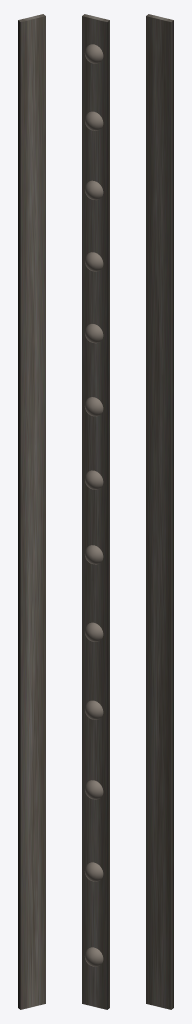
Rendered from Wall_Panel_Piece.fbx.
The picture shows the model from 3 angles, left to right: view 1: azimuth 30°, elevation 25°; view 2: azimuth 150°, elevation 25°; view 3: azimuth 330°, elevation 25°; orthographic projection.
Parts seen in each view (by area): view 1: pCube3; view 2: pCube3; view 3: pCube3.
Part boxes in pixels (x1,y1,x2,y2): pCube3: (18,14,45,1009); pCube3: (82,14,109,1009); pCube3: (146,14,173,1009).
Size of the model in its own units: 6.88 by 256 by 3.37.
